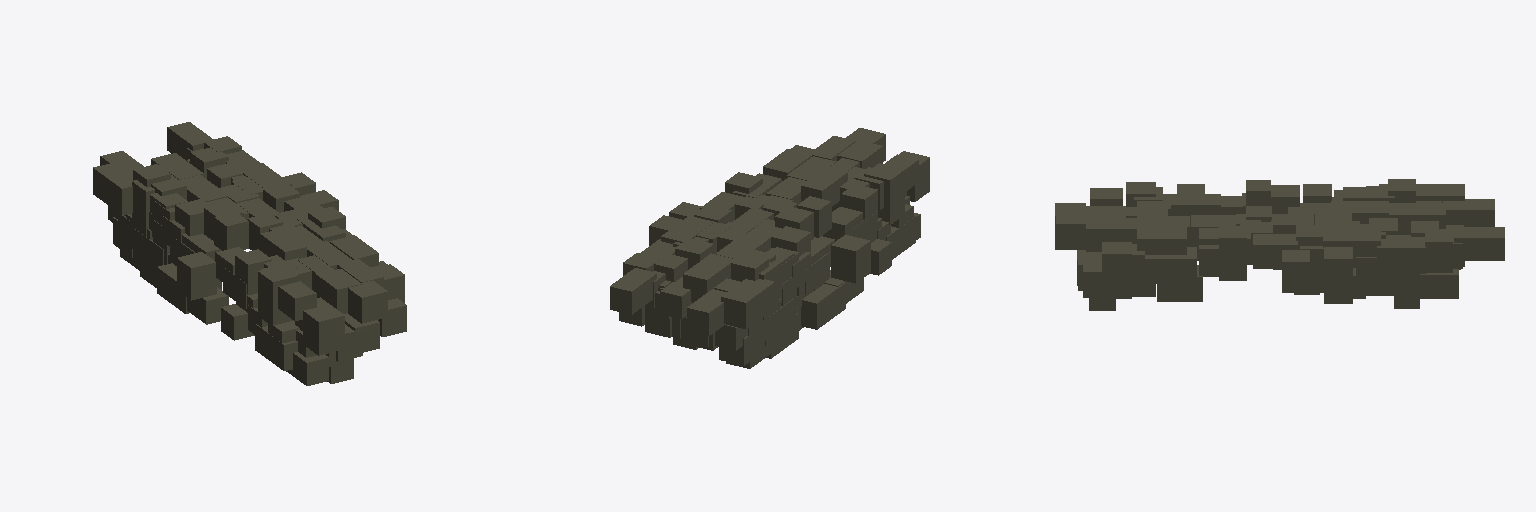
Rendered from zcubecluster000.obj.
3 views of the same model, side by side, from view 1: azimuth 30°, elevation 25°; view 2: azimuth 150°, elevation 25°; view 3: azimuth 270°, elevation 25° (orthographic).
Visible parts, largest first — view 1: zcube_cluster000_Box001.007; view 2: zcube_cluster000_Box001.007; view 3: zcube_cluster000_Box001.007.
Part boxes in pixels (left/top/right/bottom): zcube_cluster000_Box001.007: left=93, top=122, right=406, bottom=385; zcube_cluster000_Box001.007: left=610, top=128, right=929, bottom=368; zcube_cluster000_Box001.007: left=1055, top=179, right=1504, bottom=310.
Bounding box in the file's own units: 11.61 × 7.08 × 27.02.